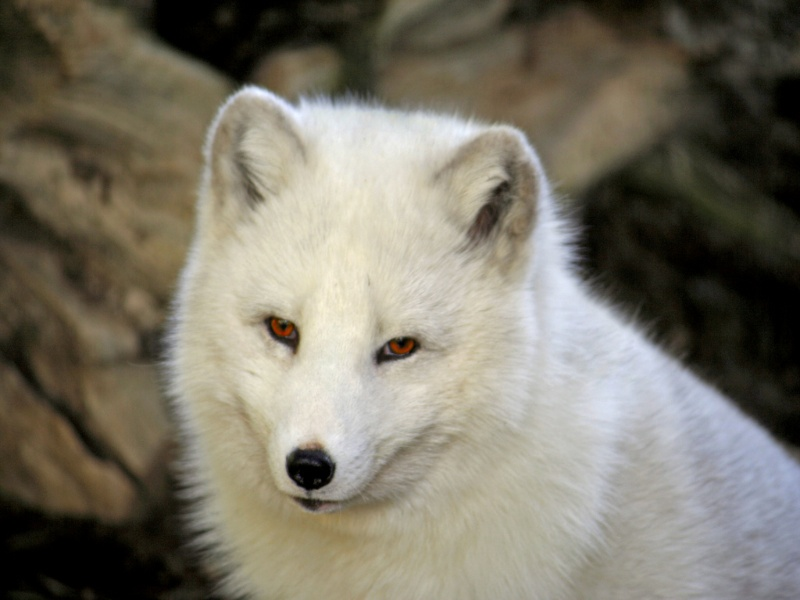fox: (161, 87, 797, 600)
